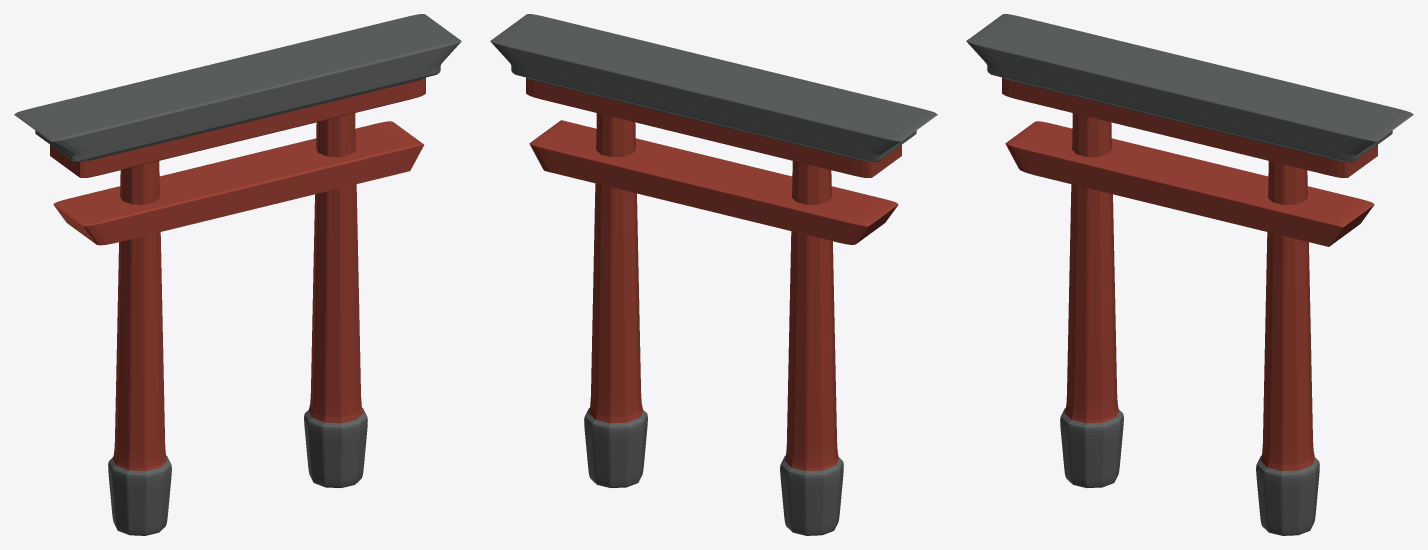
The model's file is tori.fbx.
3 renders of one model, left to right at view 1: azimuth 30°, elevation 25°; view 2: azimuth 150°, elevation 25°; view 3: azimuth 330°, elevation 25°, orthographic.
Parts seen in each view (by area): view 1: Cube.003; view 2: Cube.003; view 3: Cube.003.
Boxes of the visible parts, bbox=[...] form: Cube.003: bbox=[14, 14, 461, 535]; Cube.003: bbox=[490, 14, 937, 535]; Cube.003: bbox=[966, 14, 1413, 535].
Size of the model in its own units: 86.83 by 85.73 by 14.72.
